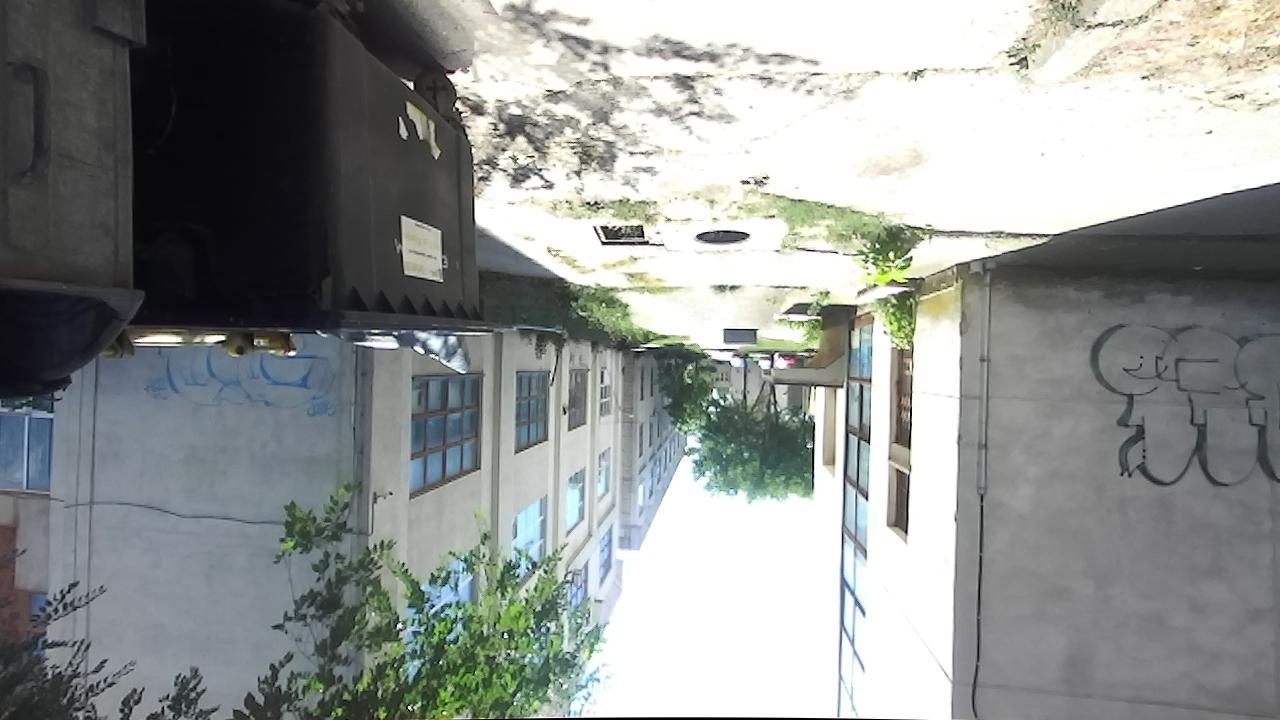drain: (587, 219, 648, 249), (686, 223, 751, 248)
